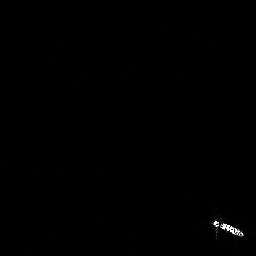ship: (208, 215, 248, 242)
